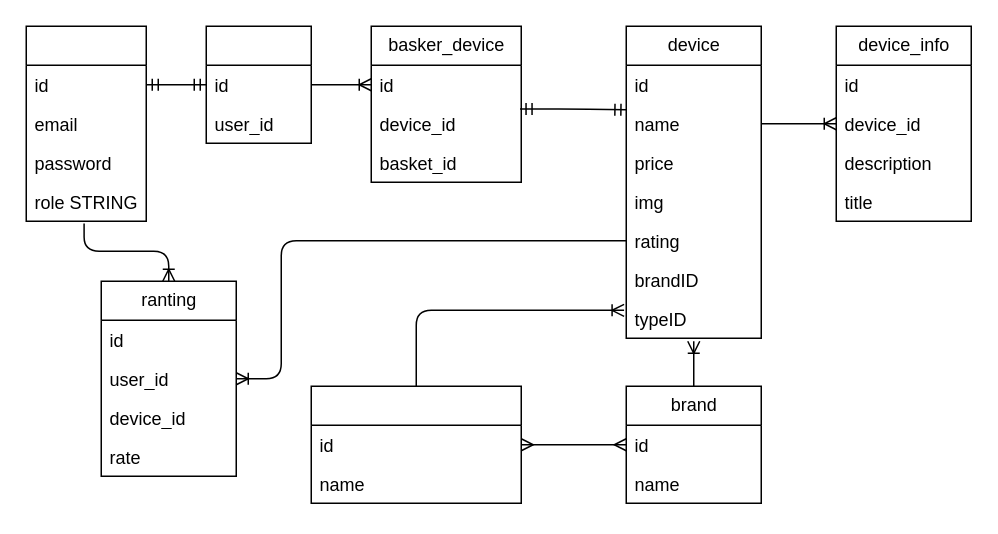
Some shapes in this 998 by 534 pixel diagram are drawn without their labels. Here are the shapes that lost their labels. From the top down, the box of each, then its label:
(205, 25, 311, 143): basket
(25, 25, 146, 221): user
(310, 385, 521, 503): type
